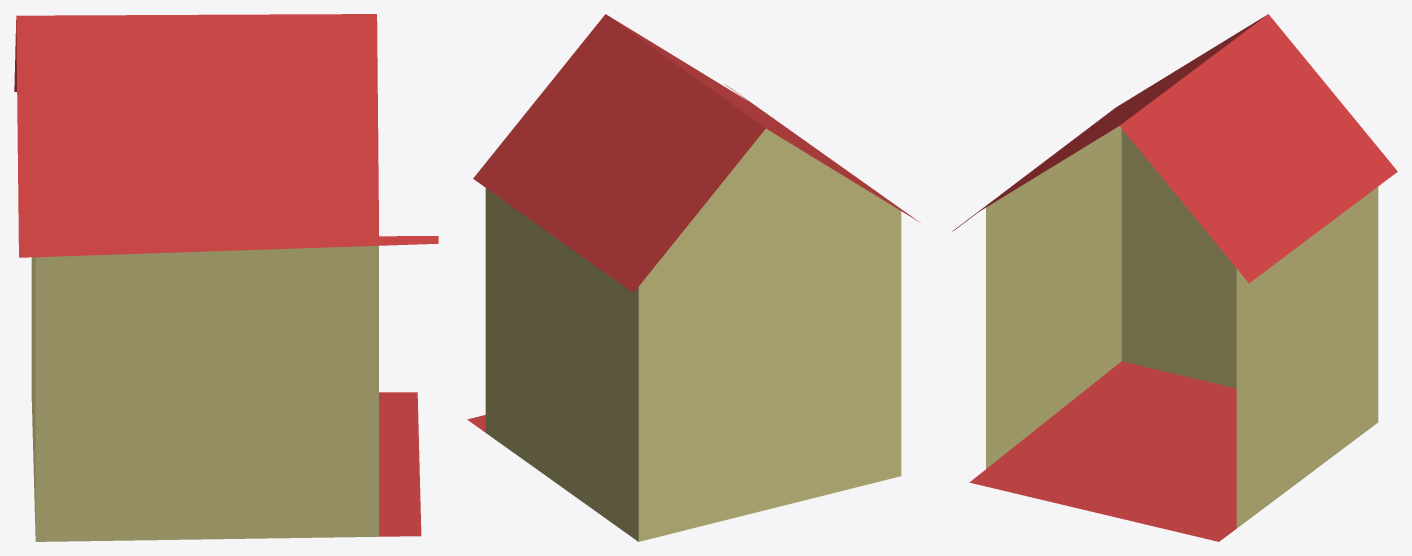
3 views of the same model, side by side, from view 1: azimuth 30°, elevation 25°; view 2: azimuth 150°, elevation 25°; view 3: azimuth 270°, elevation 25° (orthographic). The views are drawn at different scales.
Size of the model in its own units: 15.54 by 15.57 by 14.39.
